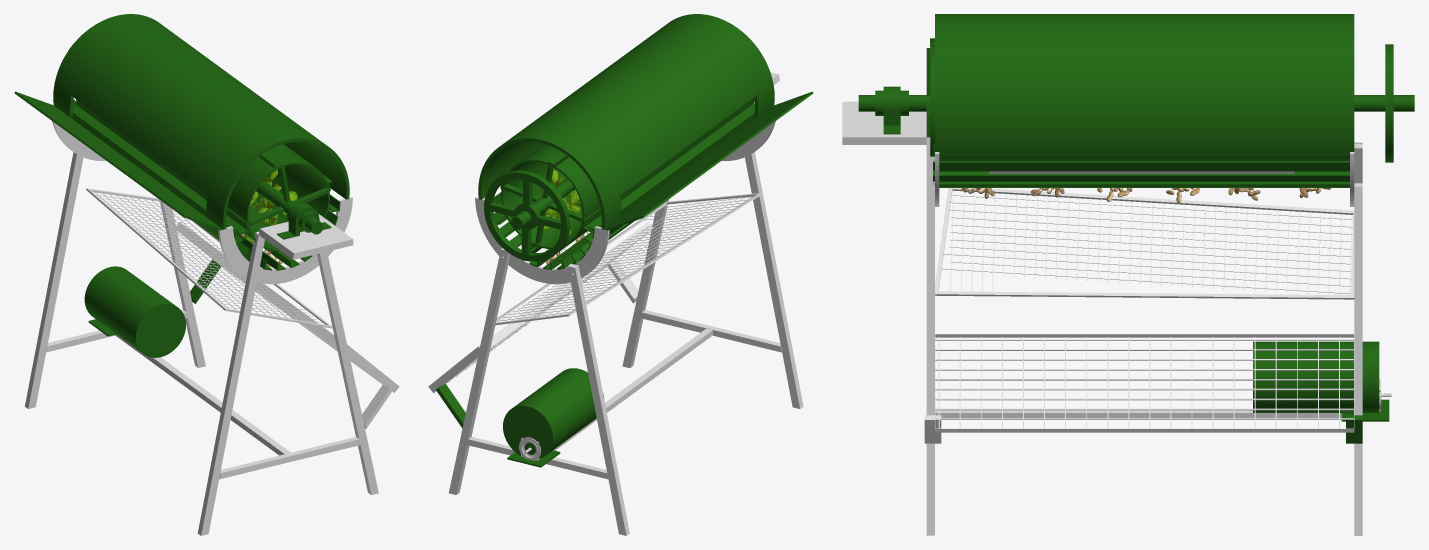
Rendered from depodder-v1.glb.
The picture shows the model from 3 angles, left to right: view 1: azimuth 30°, elevation 25°; view 2: azimuth 150°, elevation 25°; view 3: azimuth 270°, elevation 25°; orthographic projection. The views are drawn at different scales.
Visible parts, largest first — view 1: Depodder, Depodder.001, BezierCurve.017; view 2: Depodder, Depodder.001, BezierCurve.017; view 3: Depodder, Depodder.001, BezierCurve.017, Circle.002.
Boxes of the visible parts, x1,y1,x2,y2 form: Depodder: (14,14,399,535); Depodder.001: (76,99,332,251); BezierCurve.017: (241,169,297,267); Depodder: (428,14,813,535); Depodder.001: (500,98,754,249); BezierCurve.017: (532,169,588,264); Depodder: (842,14,1393,535); Depodder.001: (858,38,1414,171); BezierCurve.017: (961,188,1331,202); Circle.002: (989,171,1294,173).
Bounding box in the file's own units: 0.7289 × 1.2 × 1.36.
6 materials, 2 textured.
